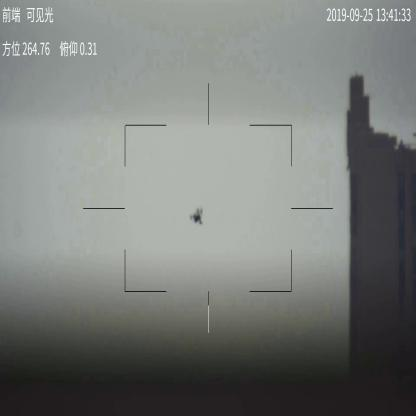uav: (187, 205, 208, 227)
